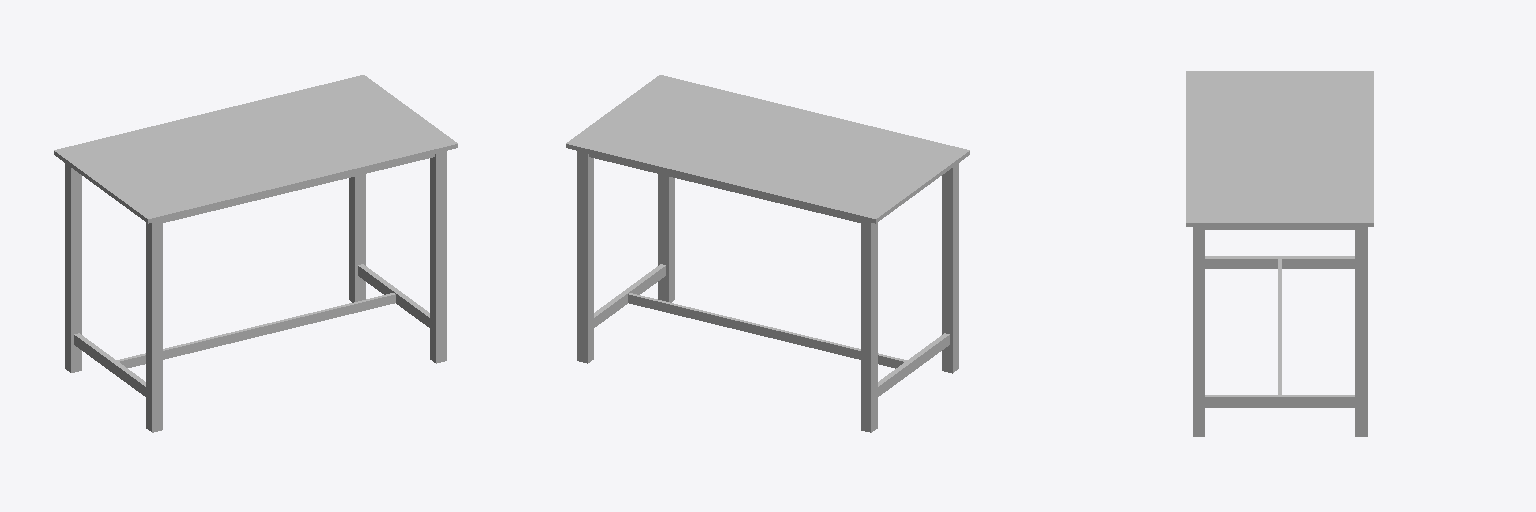
Rendered from Table.obj.
3 renders of one model, left to right at view 1: azimuth 30°, elevation 25°; view 2: azimuth 150°, elevation 25°; view 3: azimuth 270°, elevation 25°, orthographic.
Visible parts, largest first — view 1: Table_lowpoly_Cube.012; view 2: Table_lowpoly_Cube.012; view 3: Table_lowpoly_Cube.012.
Boxes of the visible parts, <box> form: Table_lowpoly_Cube.012: <box>54,75,457,432</box>; Table_lowpoly_Cube.012: <box>566,75,969,432</box>; Table_lowpoly_Cube.012: <box>1186,71,1373,436</box>.
Bounding box in the file's own units: 1.14 × 0.765 × 0.6.